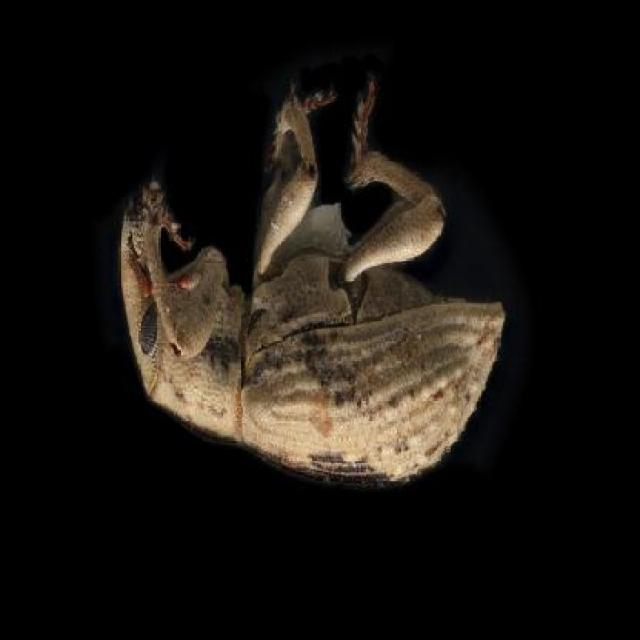rice-bug: (119, 72, 512, 482)
